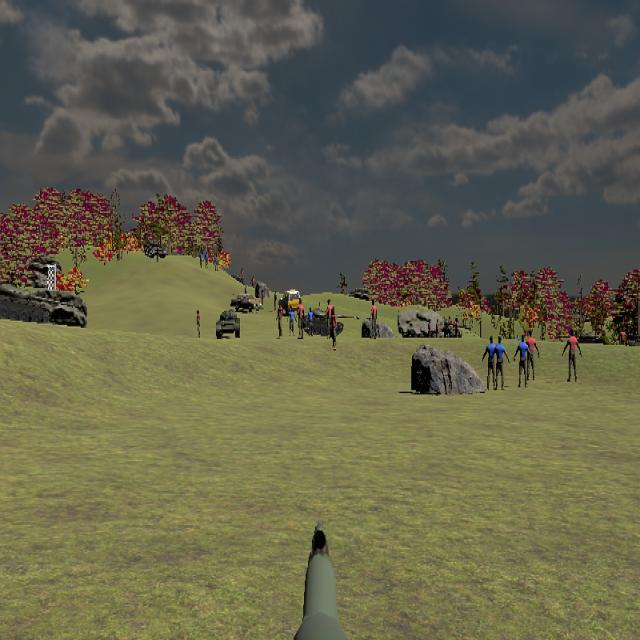Human: (562, 327, 582, 383), (514, 333, 533, 389), (514, 333, 533, 388), (491, 336, 510, 390), (482, 334, 500, 389), (524, 331, 540, 379)
Tank: (0, 281, 63, 326), (303, 308, 356, 337), (216, 308, 240, 340)
car: (230, 293, 263, 313), (284, 290, 303, 313)
